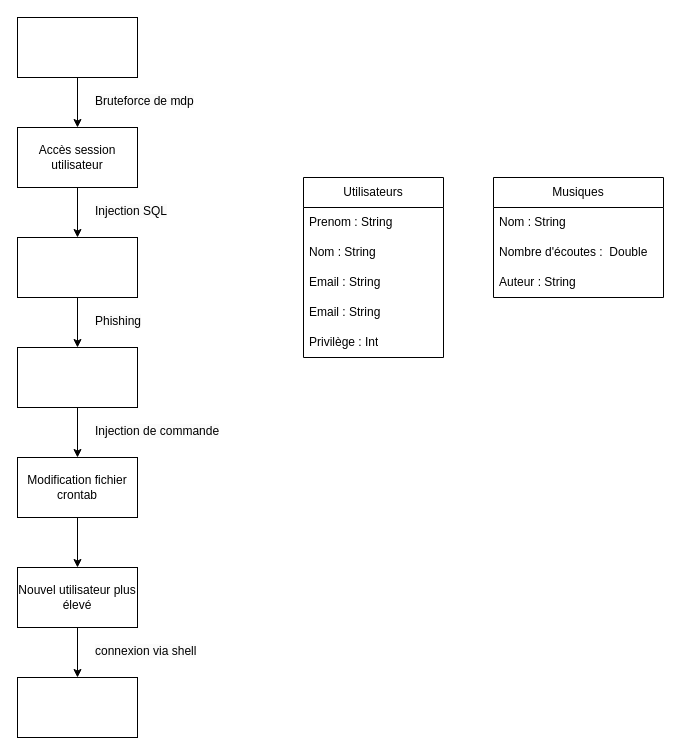
Some shapes in this 681 by 755 pixel diagram are drawn without their labels. Here are the shapes that lost their labels. From the top down, the centre of each, then its label:
pixel 77 47: Site Web
pixel 77 267: Récupération d'adresses mail
pixel 77 377: Récupération d'un compte plus haut niveau avec nouveau pannel
